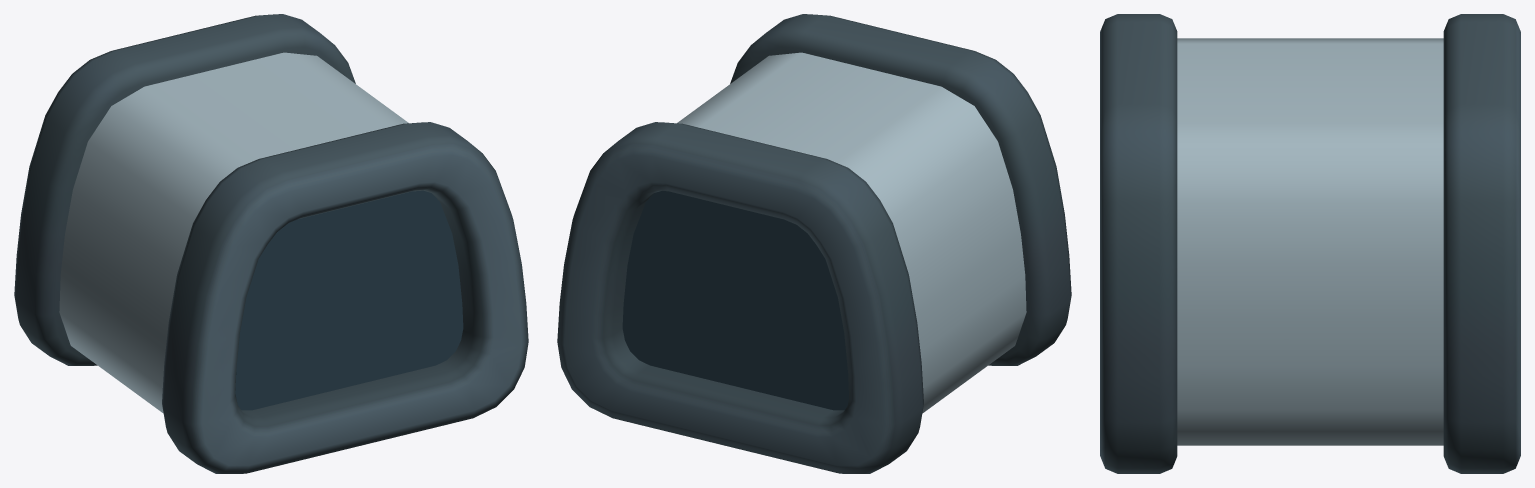
The model's file is spawner.fbx.
The picture shows the model from 3 angles, left to right: view 1: azimuth 30°, elevation 25°; view 2: azimuth 150°, elevation 25°; view 3: azimuth 270°, elevation 25°; orthographic projection. The views are drawn at different scales.
Visible parts, largest first — view 1: spawner; view 2: spawner; view 3: spawner.
Part boxes in pixels (x1,y1,x2,y2): spawner: (14,14,528,473); spawner: (557,14,1071,473); spawner: (1100,14,1520,473).
Bounding box in the file's own units: 102 × 82.36 × 92.62.
